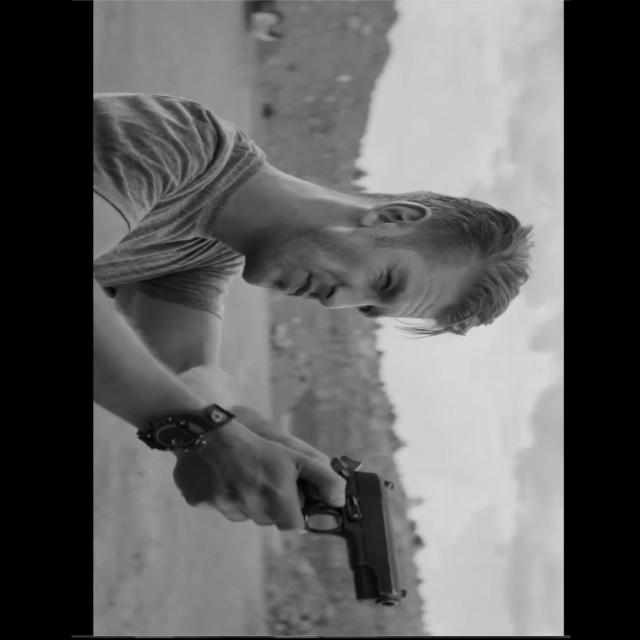weapons: (244, 447, 424, 615)
